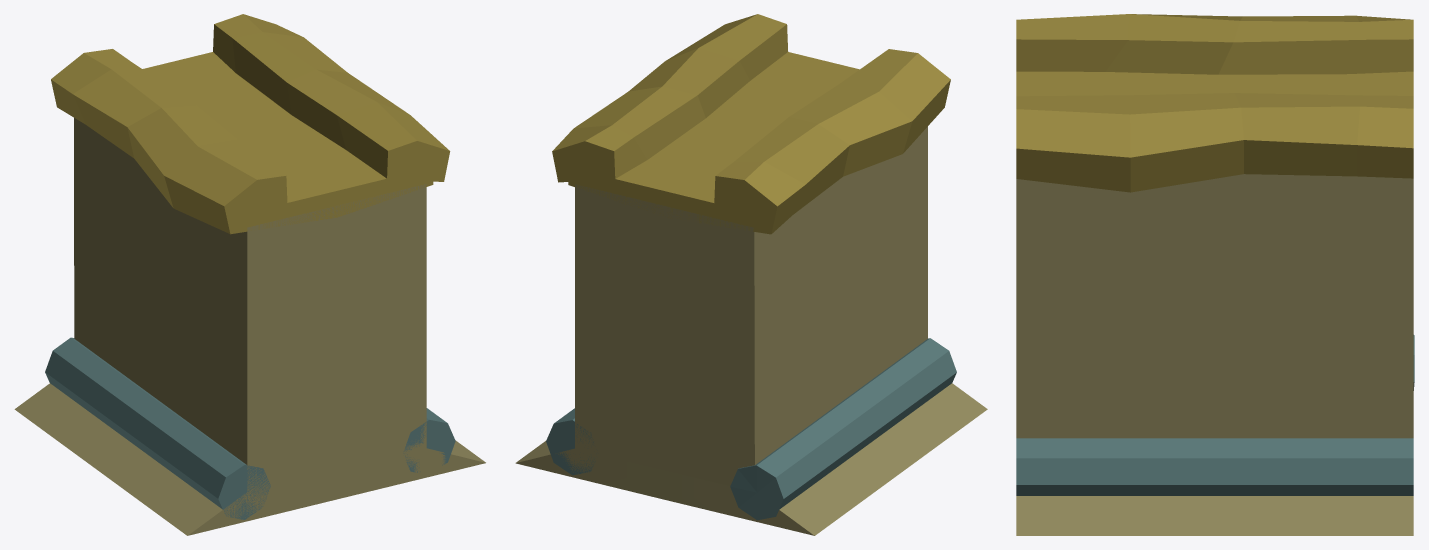
File: Int_6_Wall_Vert.fbx
3 renders of one model, left to right at view 1: azimuth 30°, elevation 25°; view 2: azimuth 150°, elevation 25°; view 3: azimuth 270°, elevation 25°, orthographic. The views are drawn at different scales.
Visible parts, largest first — view 1: Int_6_Wall_Vert; view 2: Int_6_Wall_Vert; view 3: Int_6_Wall_Vert.
Part boxes in pixels (bbox=[...]): Int_6_Wall_Vert: bbox=[14, 14, 485, 535]; Int_6_Wall_Vert: bbox=[515, 14, 987, 535]; Int_6_Wall_Vert: bbox=[1016, 14, 1414, 535].
Bounding box in the file's own units: 0.9959 × 1.08 × 1.
